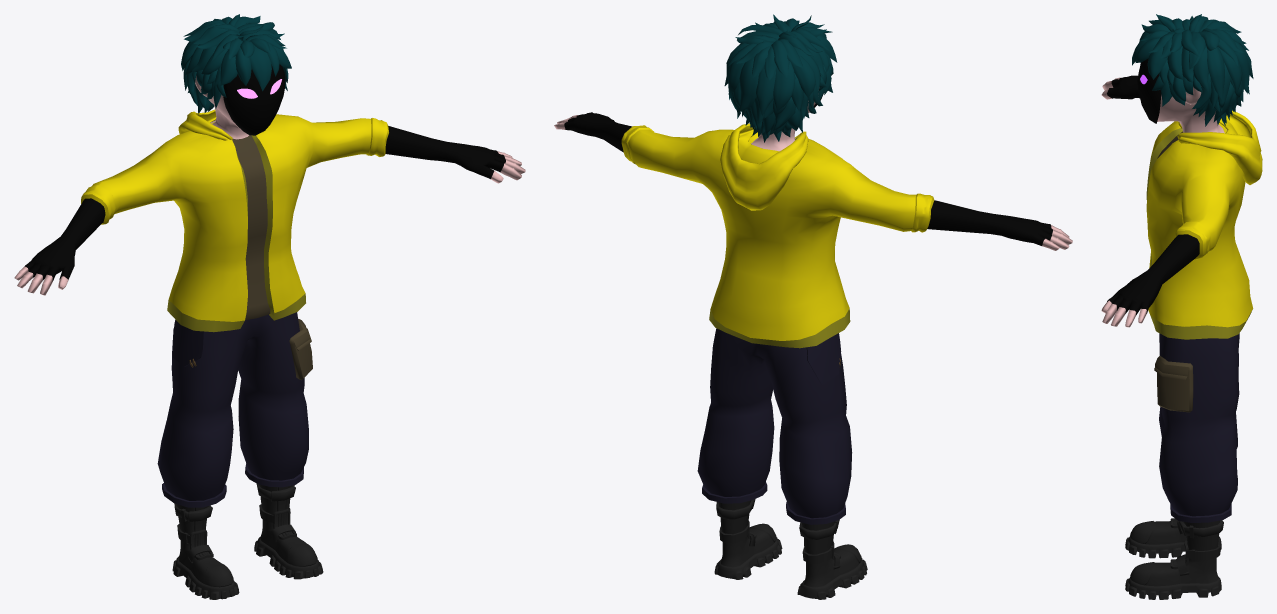
Rendered from SemCharacter.fbx.
3 renders of one model, left to right at view 1: azimuth 30°, elevation 25°; view 2: azimuth 150°, elevation 25°; view 3: azimuth 270°, elevation 25°, orthographic.
Parts seen in each view (by area): view 1: Body, Pants, ShoeFullmesh.001, NurbsPath.065, Cube.001, Pants.001, Hood, HeadFull; view 2: Body, Pants, NurbsPath.065, ShoeFullmesh.001, Hood; view 3: Body, Pants, NurbsPath.065, ShoeFullmesh.001, Hood, Pants.001, HeadFull, Cube.001.
Part boxes in pixels (x1,y1,x2,y2): Body: [14, 114, 525, 332]; Pants: [157, 312, 308, 507]; ShoeFullmesh.001: [172, 484, 323, 599]; NurbsPath.065: [181, 14, 291, 113]; Cube.001: [223, 64, 285, 135]; Pants.001: [289, 318, 312, 380]; Hood: [178, 109, 264, 140]; HeadFull: [208, 95, 248, 139]; Body: [554, 112, 1072, 348]; Pants: [697, 328, 852, 524]; NurbsPath.065: [724, 14, 837, 142]; ShoeFullmesh.001: [714, 499, 867, 599]; Hood: [720, 123, 808, 210]; Body: [1101, 75, 1253, 339]; Pants: [1159, 333, 1239, 522]; NurbsPath.065: [1132, 14, 1253, 126]; ShoeFullmesh.001: [1125, 518, 1223, 599]; Hood: [1177, 110, 1262, 184]; Pants.001: [1154, 356, 1193, 412]; HeadFull: [1157, 58, 1226, 133]; Cube.001: [1137, 58, 1161, 123].
Size of the model in its own units: 160 by 166 by 44.
